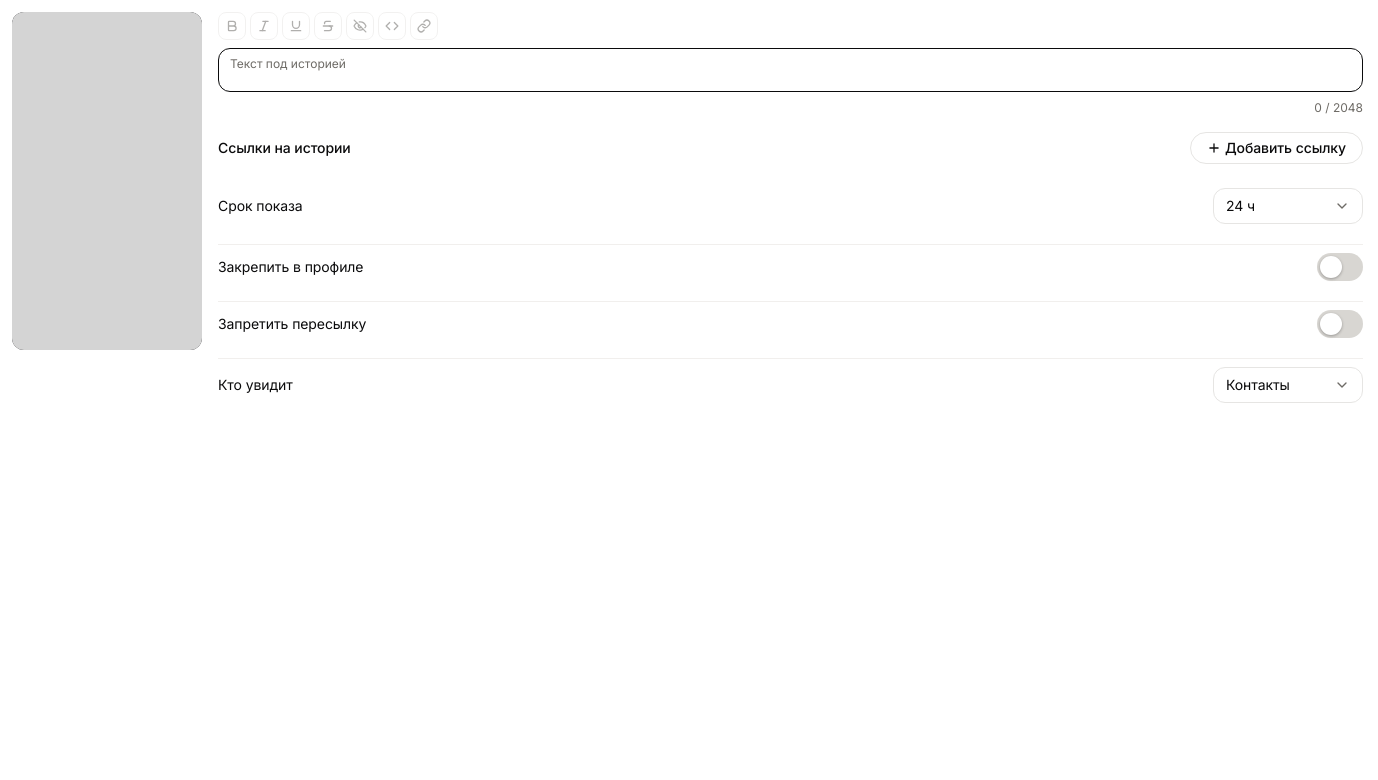
Scenario: a bad url and an emoji label are explained under their fields
This screenshot has width=1378, height=780.
Click the button "Добавить ссылку": (1276, 148) [1190, 132, 1363, 164]
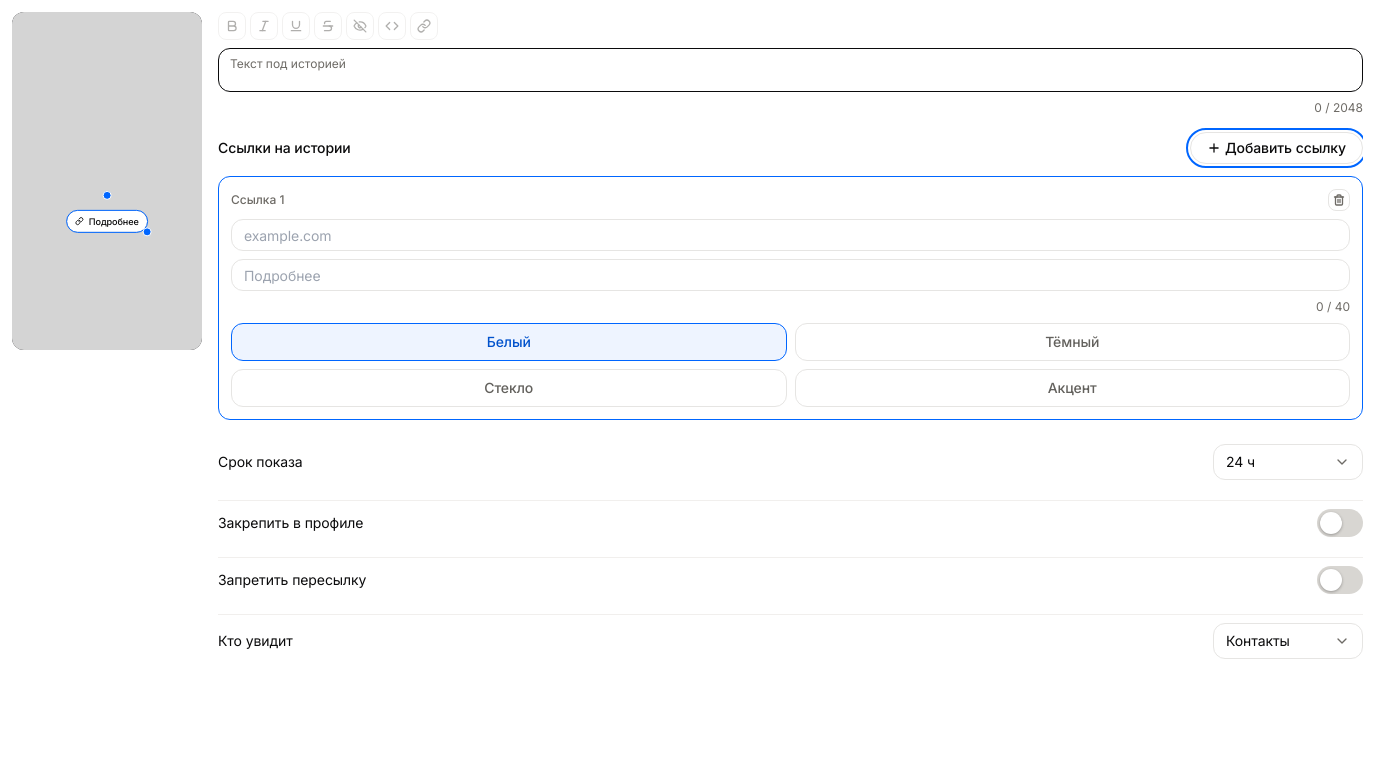
In the field named "Ссылка 1: Адрес": (790, 235) [231, 219, 1350, 251], type "javascript:x"
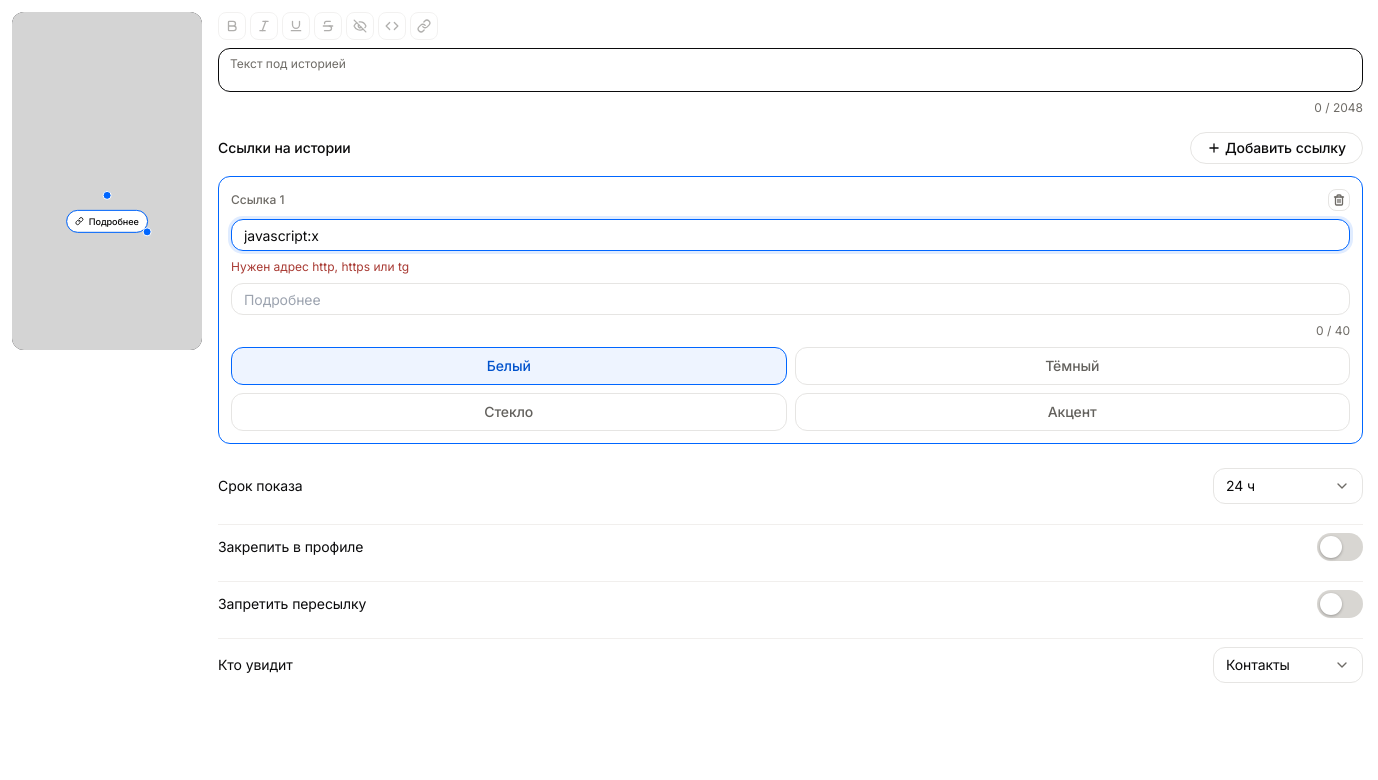
Now the text "Нужен адрес http, https или tg" is shown, box [231, 259, 409, 274]
In the field named "Ссылка 1: Название": (790, 299) [231, 283, 1350, 315], type "Ура 🎉"
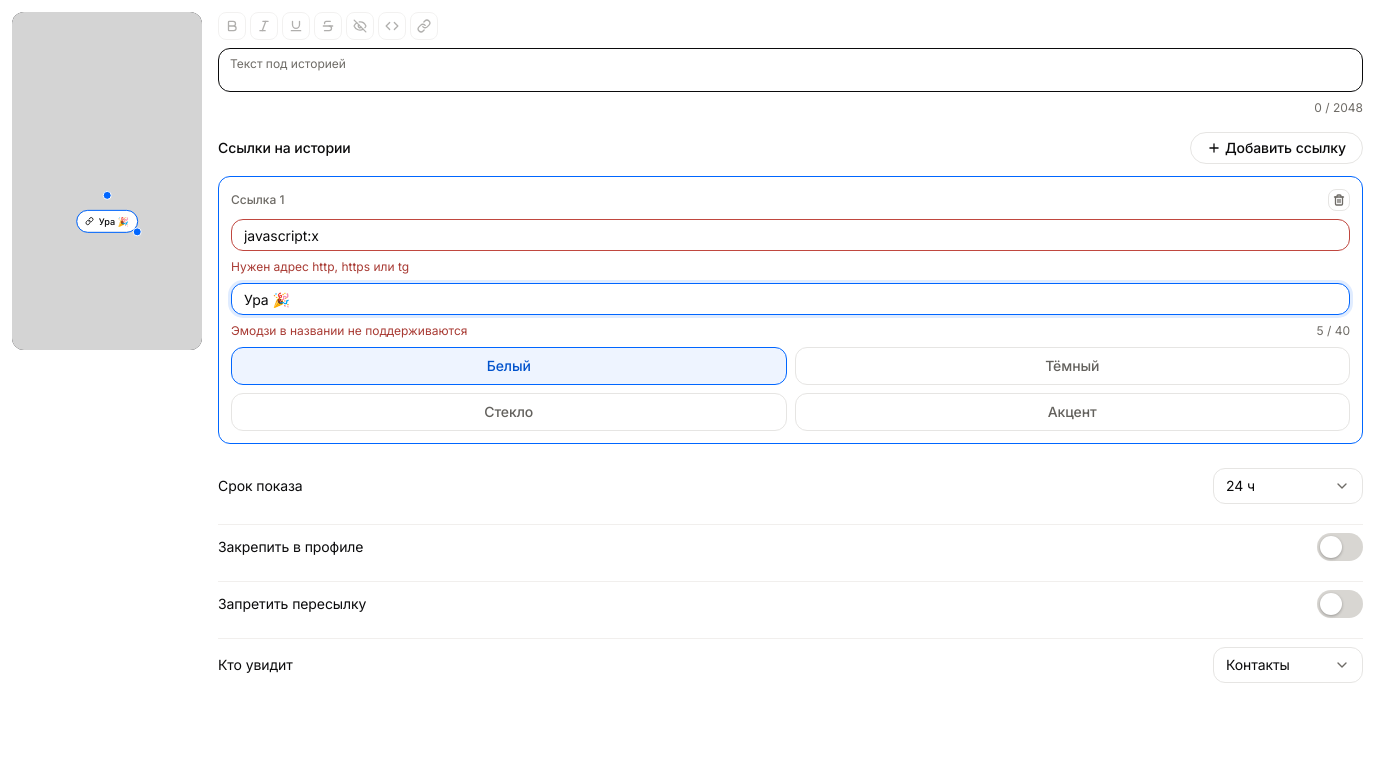
Now the text "Эмодзи в названии не поддерживаются" is shown, box [231, 323, 468, 339]
